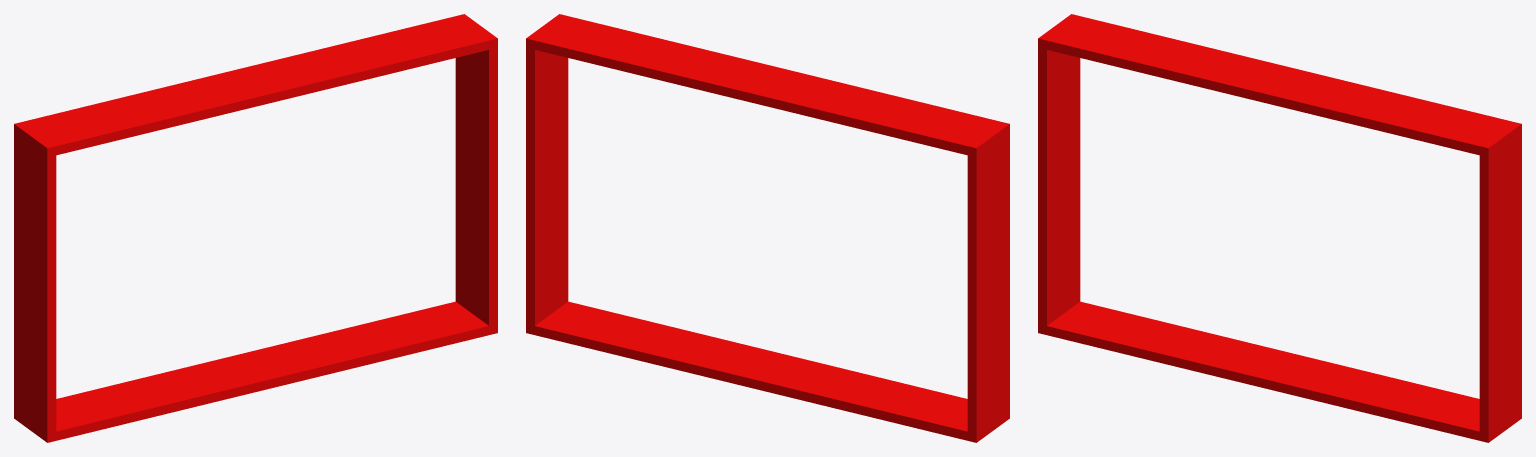
Rendered from regional_exposure_settings_edge.glb.
The picture shows the model from 3 angles, left to right: view 1: azimuth 30°, elevation 25°; view 2: azimuth 150°, elevation 25°; view 3: azimuth 330°, elevation 25°; orthographic projection.
Visible parts, largest first — view 1: world; view 2: world; view 3: world.
Boxes of the visible parts, x1,y1,x2,y2 form: world: [14, 14, 497, 442]; world: [526, 14, 1009, 442]; world: [1038, 14, 1521, 442].
Bounding box in the file's own units: 19.46 × 12.16 × 2.5.
